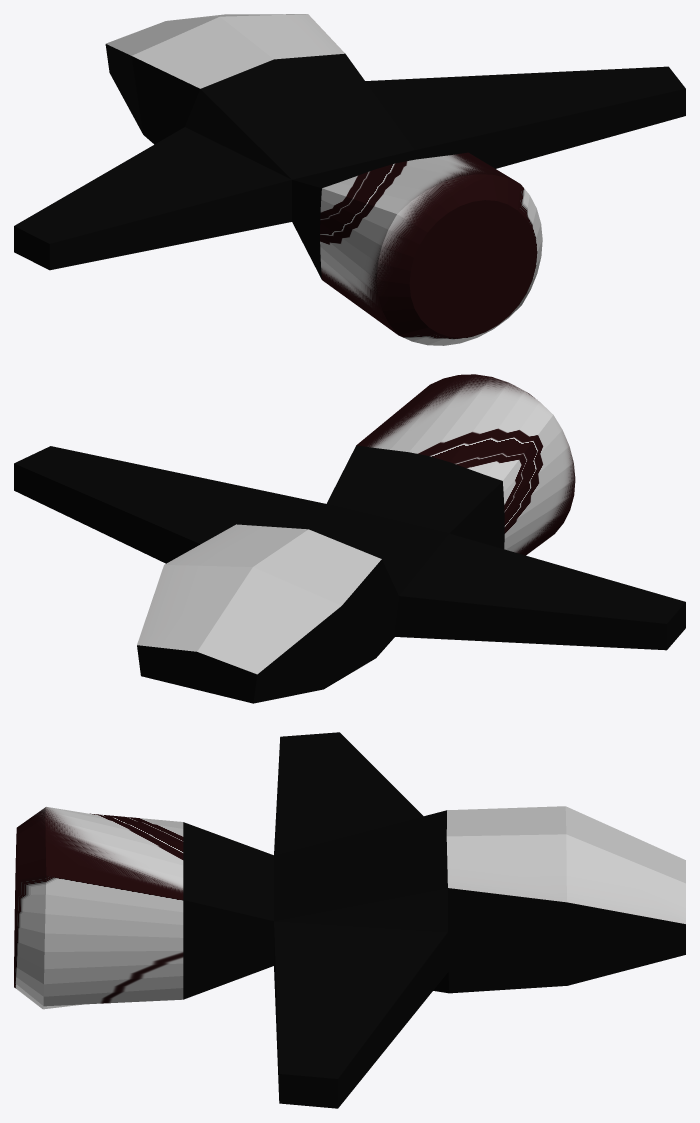
The model's file is Enemy project.fbx.
3 renders of one model, top to bottom at view 1: azimuth 30°, elevation 25°; view 2: azimuth 150°, elevation 25°; view 3: azimuth 270°, elevation 25°, orthographic. The views are drawn at different scales.
Parts seen in each view (by area): view 1: Cube; view 2: Cube; view 3: Cube.
Part boxes in pixels (box(x1,y1,x2,y2)): Cube: box(14, 14, 685, 345); Cube: box(14, 374, 685, 703); Cube: box(14, 732, 685, 1108).
Bounding box in the file's own units: 748 × 181 × 611.
3 materials, 2 textured.
